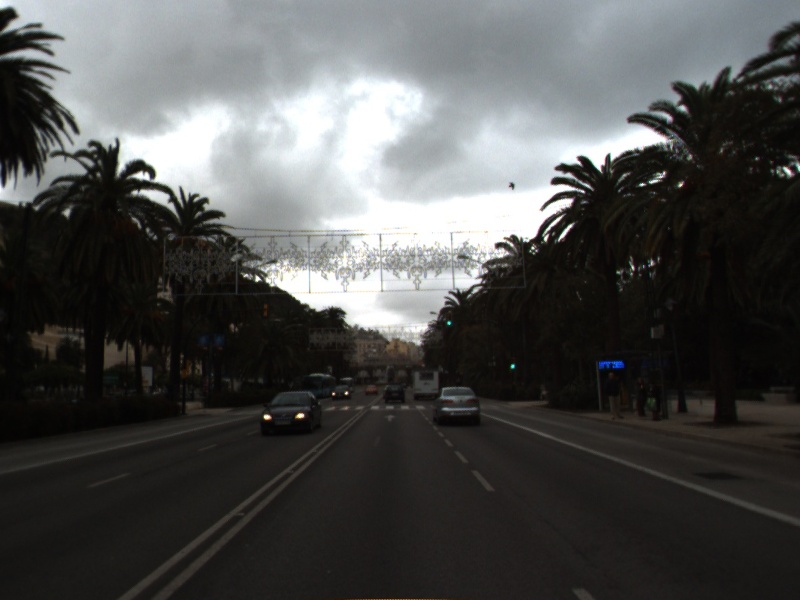STRAIGHT: (381, 412, 399, 423)
